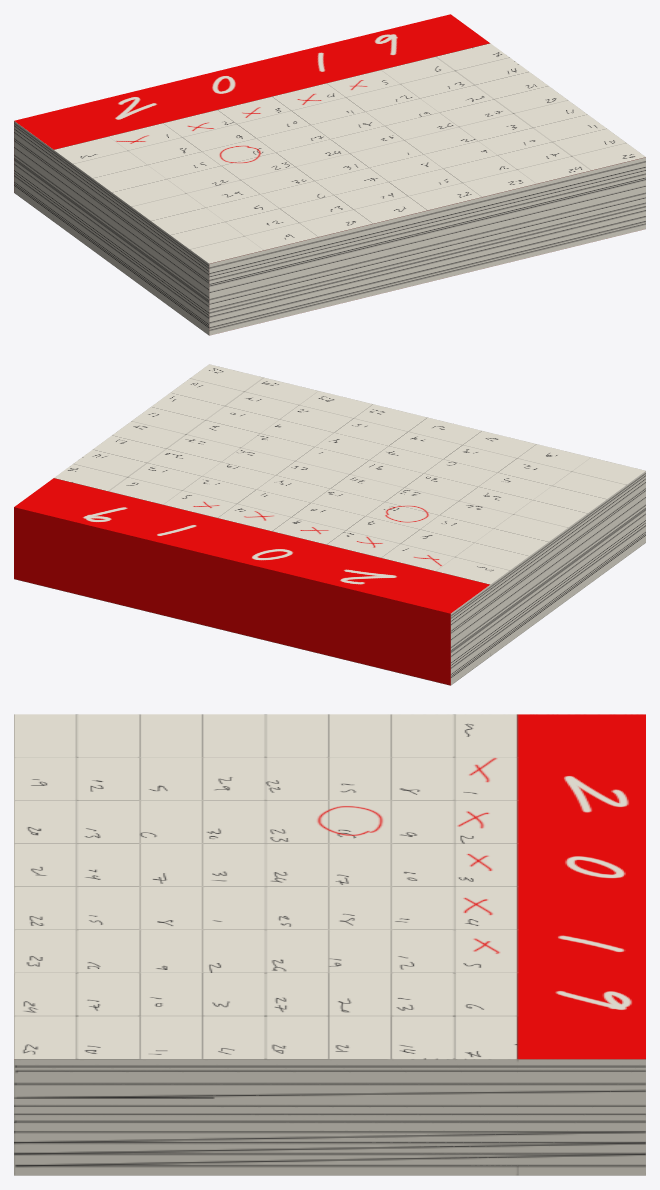
The model's file is calendar.fbx.
3 renders of one model, top to bottom at view 1: azimuth 30°, elevation 25°; view 2: azimuth 150°, elevation 25°; view 3: azimuth 270°, elevation 25°, orthographic. The views are drawn at different scales.
Parts seen in each view (by area): view 1: Cube; view 2: Cube; view 3: Cube.
Boxes of the visible parts, x1,y1,x2,y2 form: Cube: [14, 14, 645, 335]; Cube: [14, 364, 645, 685]; Cube: [14, 714, 645, 1175].
Size of the model in its own units: 1269 by 200 by 983.
